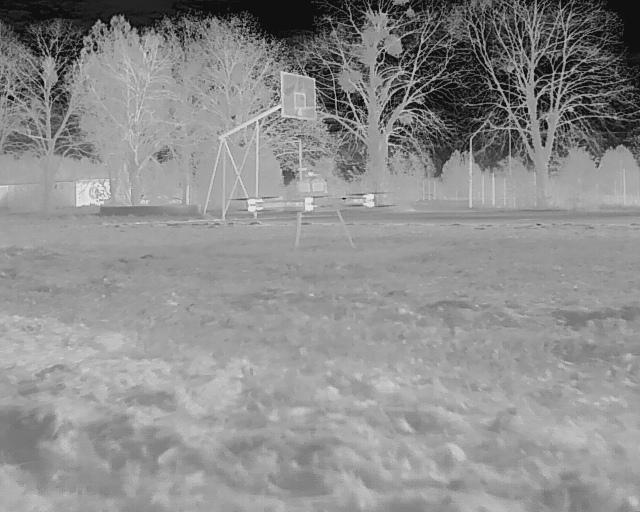drone: (228, 153, 387, 274)
